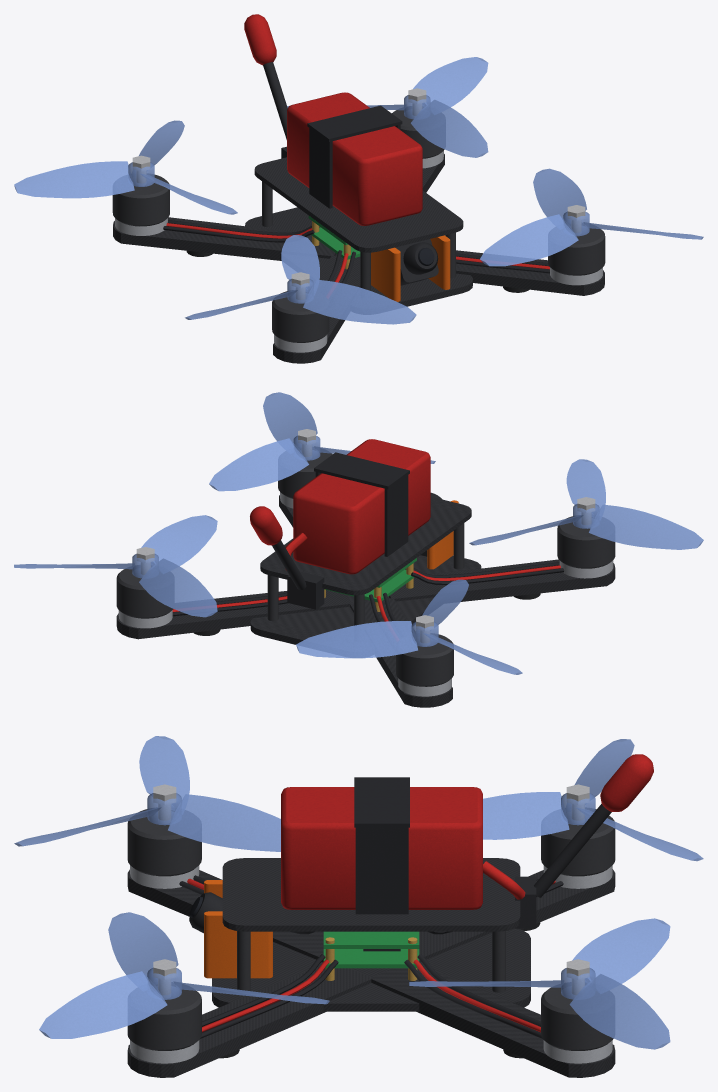
Rendered from mission-drone.glb.
3 views of the same model, one above another, from view 1: azimuth 30°, elevation 25°; view 2: azimuth 150°, elevation 25°; view 3: azimuth 270°, elevation 25° (orthographic). The views are drawn at different scales.
Visible parts, largest first — view 1: Carbon frame, Battery and strap, Motors, MissionRotor_4, MissionRotor_3, MissionRotor_2, MissionRotor_1, Camera and cage, Motor wires, Standoffs and stack, Video antenna; view 2: Carbon frame, Battery and strap, Motors, MissionRotor_1, MissionRotor_3, MissionRotor_2, MissionRotor_4, Motor wires, Video antenna, Standoffs and stack, Camera and cage; view 3: Carbon frame, Battery and strap, Motors, MissionRotor_1, MissionRotor_4, MissionRotor_3, MissionRotor_2, Standoffs and stack, Motor wires, Video antenna, Camera and cage.
Part boxes in pixels (left/top/right/bottom): Carbon frame: left=113, top=154, right=604, bottom=363; Battery and strap: left=287, top=92, right=422, bottom=225; Motors: left=112, top=88, right=605, bottom=352; MissionRotor_4: left=480, top=168, right=703, bottom=266; MissionRotor_3: left=185, top=235, right=416, bottom=324; MissionRotor_2: left=14, top=120, right=237, bottom=214; MissionRotor_1: left=287, top=57, right=488, bottom=157; Camera and cage: left=371, top=235, right=450, bottom=301; Motor wires: left=163, top=220, right=549, bottom=283; Standoffs and stack: left=262, top=181, right=455, bottom=290; Video antenna: left=244, top=14, right=287, bottom=158; Carbon frame: left=116, top=495, right=615, bottom=707; Battery and strap: left=285, top=439, right=430, bottom=574; Motors: left=116, top=429, right=615, bottom=696; MissionRotor_1: left=14, top=515, right=217, bottom=617; MissionRotor_3: left=469, top=459, right=703, bottom=549; MissionRotor_2: left=296, top=579, right=522, bottom=674; MissionRotor_4: left=209, top=392, right=435, bottom=491; Motor wires: left=172, top=562, right=564, bottom=621; Video antenna: left=250, top=506, right=324, bottom=609; Standoffs and stack: left=267, top=523, right=464, bottom=625; Camera and cage: left=420, top=492, right=458, bottom=569; Carbon frame: left=127, top=858, right=615, bottom=1077; Battery and strap: left=281, top=777, right=525, bottom=914; Motors: left=127, top=784, right=615, bottom=1063; MissionRotor_1: left=409, top=918, right=670, bottom=1049; MissionRotor_4: left=39, top=912, right=329, bottom=1038; MissionRotor_3: left=14, top=736, right=280, bottom=851; MissionRotor_2: left=483, top=739, right=703, bottom=861; Standoffs and stack: left=237, top=931, right=505, bottom=992; Motor wires: left=179, top=875, right=563, bottom=1038; Video antenna: left=515, top=754, right=653, bottom=928; Camera and cage: left=189, top=880, right=272, bottom=978.
Bounding box in the file's own units: 0.2758 × 0.0962 × 0.2596.
15 materials, 15 textured.
